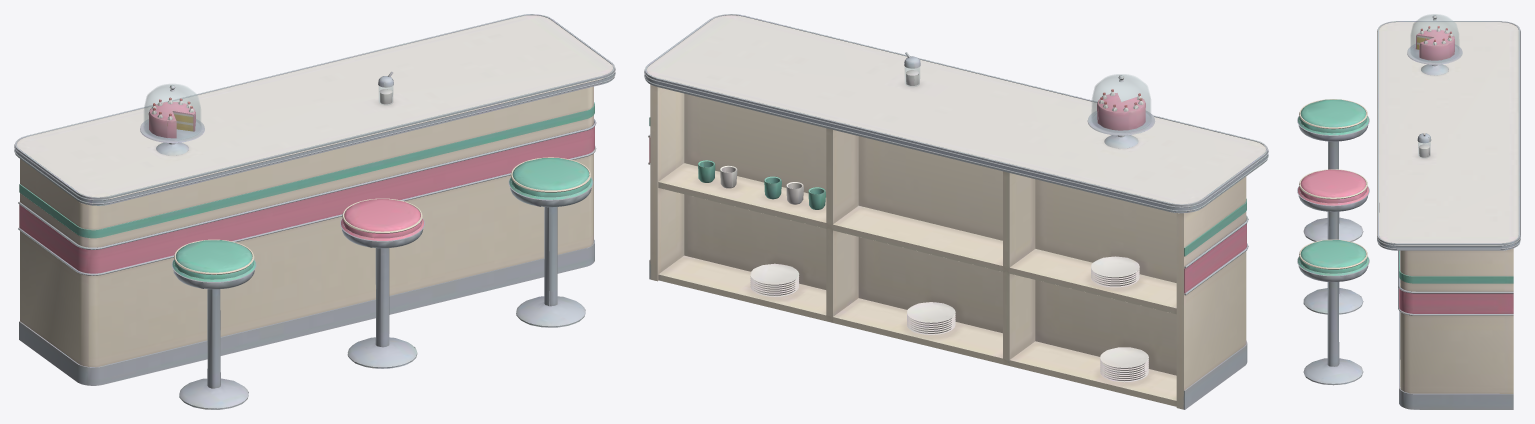
File: diner-counter-light.glb
3 renders of one model, left to right at view 1: azimuth 30°, elevation 25°; view 2: azimuth 150°, elevation 25°; view 3: azimuth 270°, elevation 25°, orthographic. The views are drawn at different scales.
Parts seen in each view (by area): view 1: diner-counter_body, diner-counter_clear_glass; view 2: diner-counter_body, diner-counter_clear_glass; view 3: diner-counter_body, diner-counter_clear_glass.
Part boxes in pixels (<box>): diner-counter_body: <box>14,14,615,409</box>; diner-counter_clear_glass: <box>143,84,393,139</box>; diner-counter_body: <box>644,14,1268,409</box>; diner-counter_clear_glass: <box>905,67,1151,132</box>; diner-counter_body: <box>1297,15,1520,409</box>; diner-counter_clear_glass: <box>1410,14,1459,158</box>.
Bounding box in the file's own units: 3.02 × 1.41 × 1.28.
2 materials, 1 textured.
